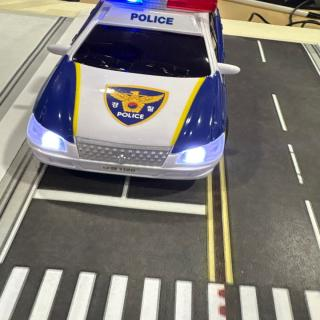Police_car: (27, 0, 240, 179)
